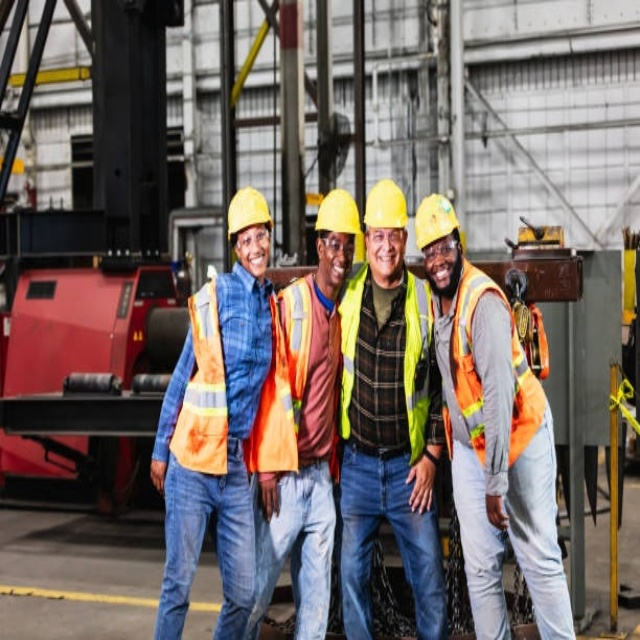Gafas: (424, 238, 460, 261), (236, 229, 270, 250), (321, 237, 356, 256), (368, 230, 405, 246)
Sin_guantes: (406, 460, 438, 513), (253, 477, 285, 525), (484, 489, 511, 533), (147, 458, 168, 491)
Sin_mascara: (430, 265, 455, 287), (376, 251, 397, 273), (328, 259, 345, 281), (247, 254, 266, 271)
